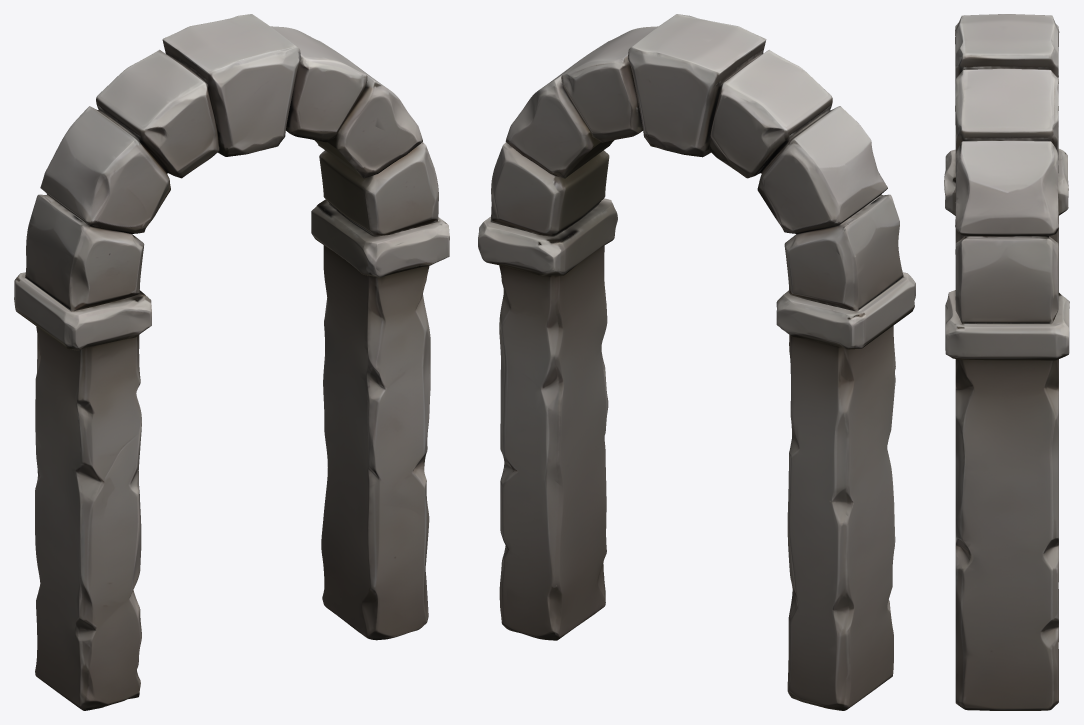
Rendered from arc3_1024.glb.
The picture shows the model from 3 angles, left to right: view 1: azimuth 30°, elevation 25°; view 2: azimuth 150°, elevation 25°; view 3: azimuth 270°, elevation 25°; orthographic projection. The views are drawn at different scales.
Visible parts, largest first — view 1: node_0; view 2: node_0; view 3: node_0.
Part boxes in pixels (x1,y1,x2,y2): node_0: (14, 14, 449, 710); node_0: (478, 14, 915, 710); node_0: (944, 14, 1069, 710).
Bounding box in the file's own units: 0.6771 × 1.03 × 0.1964.
1 material, 1 textured.
